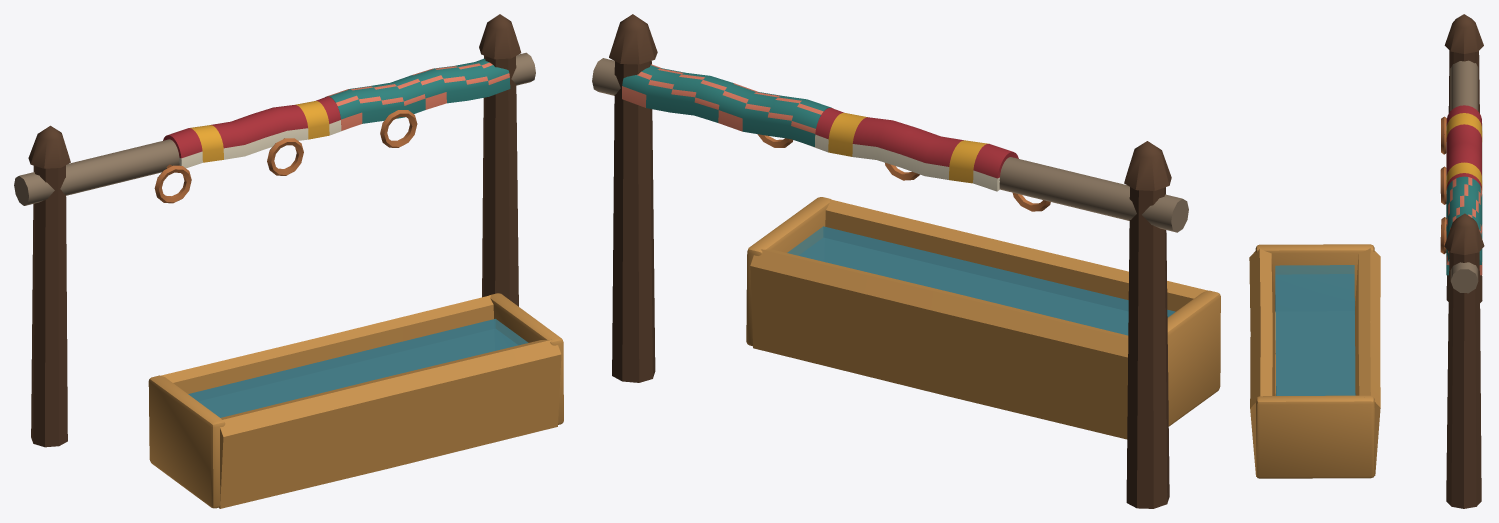
File: deco_hitching_post.fbx
The picture shows the model from 3 angles, left to right: view 1: azimuth 30°, elevation 25°; view 2: azimuth 150°, elevation 25°; view 3: azimuth 270°, elevation 25°; orthographic projection. The views are drawn at different scales.
Parts seen in each view (by area): view 1: HitchingPost_Trough, HitchingPost_Rail, HitchingPost_Blanket2, HitchingPost_Blanket; view 2: HitchingPost_Trough, HitchingPost_Rail, HitchingPost_Blanket2, HitchingPost_Blanket; view 3: HitchingPost_Trough, HitchingPost_Rail, HitchingPost_Blanket, HitchingPost_Blanket2.
Part boxes in pixels (x1=…): HitchingPost_Trough: x1=148, y1=293, x2=563, y2=508; HitchingPost_Rail: x1=14, y1=14, x2=535, y2=447; HitchingPost_Blanket2: x1=325, y1=58, x2=510, y2=130; HitchingPost_Blanket: x1=163, y1=96, x2=348, y2=168; HitchingPost_Trough: x1=746, y1=197, x2=1220, y2=439; HitchingPost_Rail: x1=592, y1=14, x2=1188, y2=508; HitchingPost_Blanket2: x1=622, y1=64, x2=832, y2=146; HitchingPost_Blanket: x1=807, y1=108, x2=1018, y2=191; HitchingPost_Trough: x1=1249, y1=244, x2=1380, y2=478; HitchingPost_Rail: x1=1440, y1=14, x2=1484, y2=508; HitchingPost_Blanket: x1=1446, y1=105, x2=1482, y2=193; HitchingPost_Blanket2: x1=1446, y1=176, x2=1482, y2=275.
Size of the model in its own units: 270 by 161 by 119.
